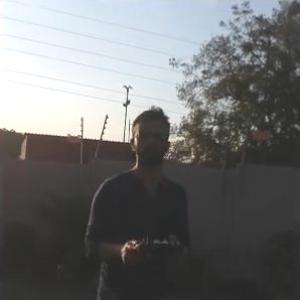follow: (77, 103, 194, 299)
